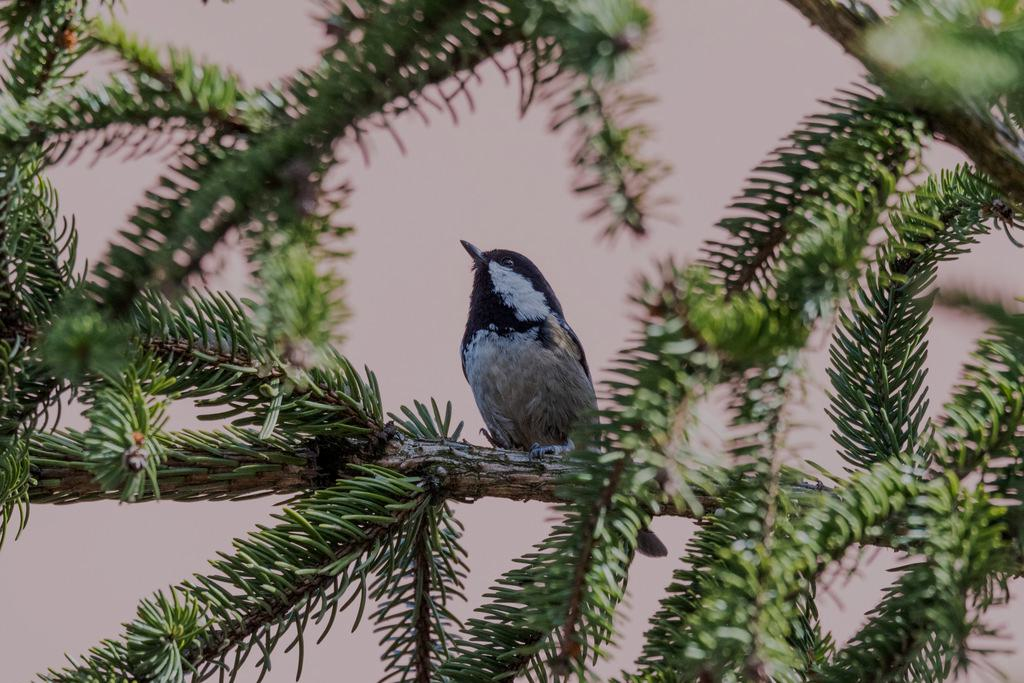PeriparusAter: (458, 238, 601, 463)
